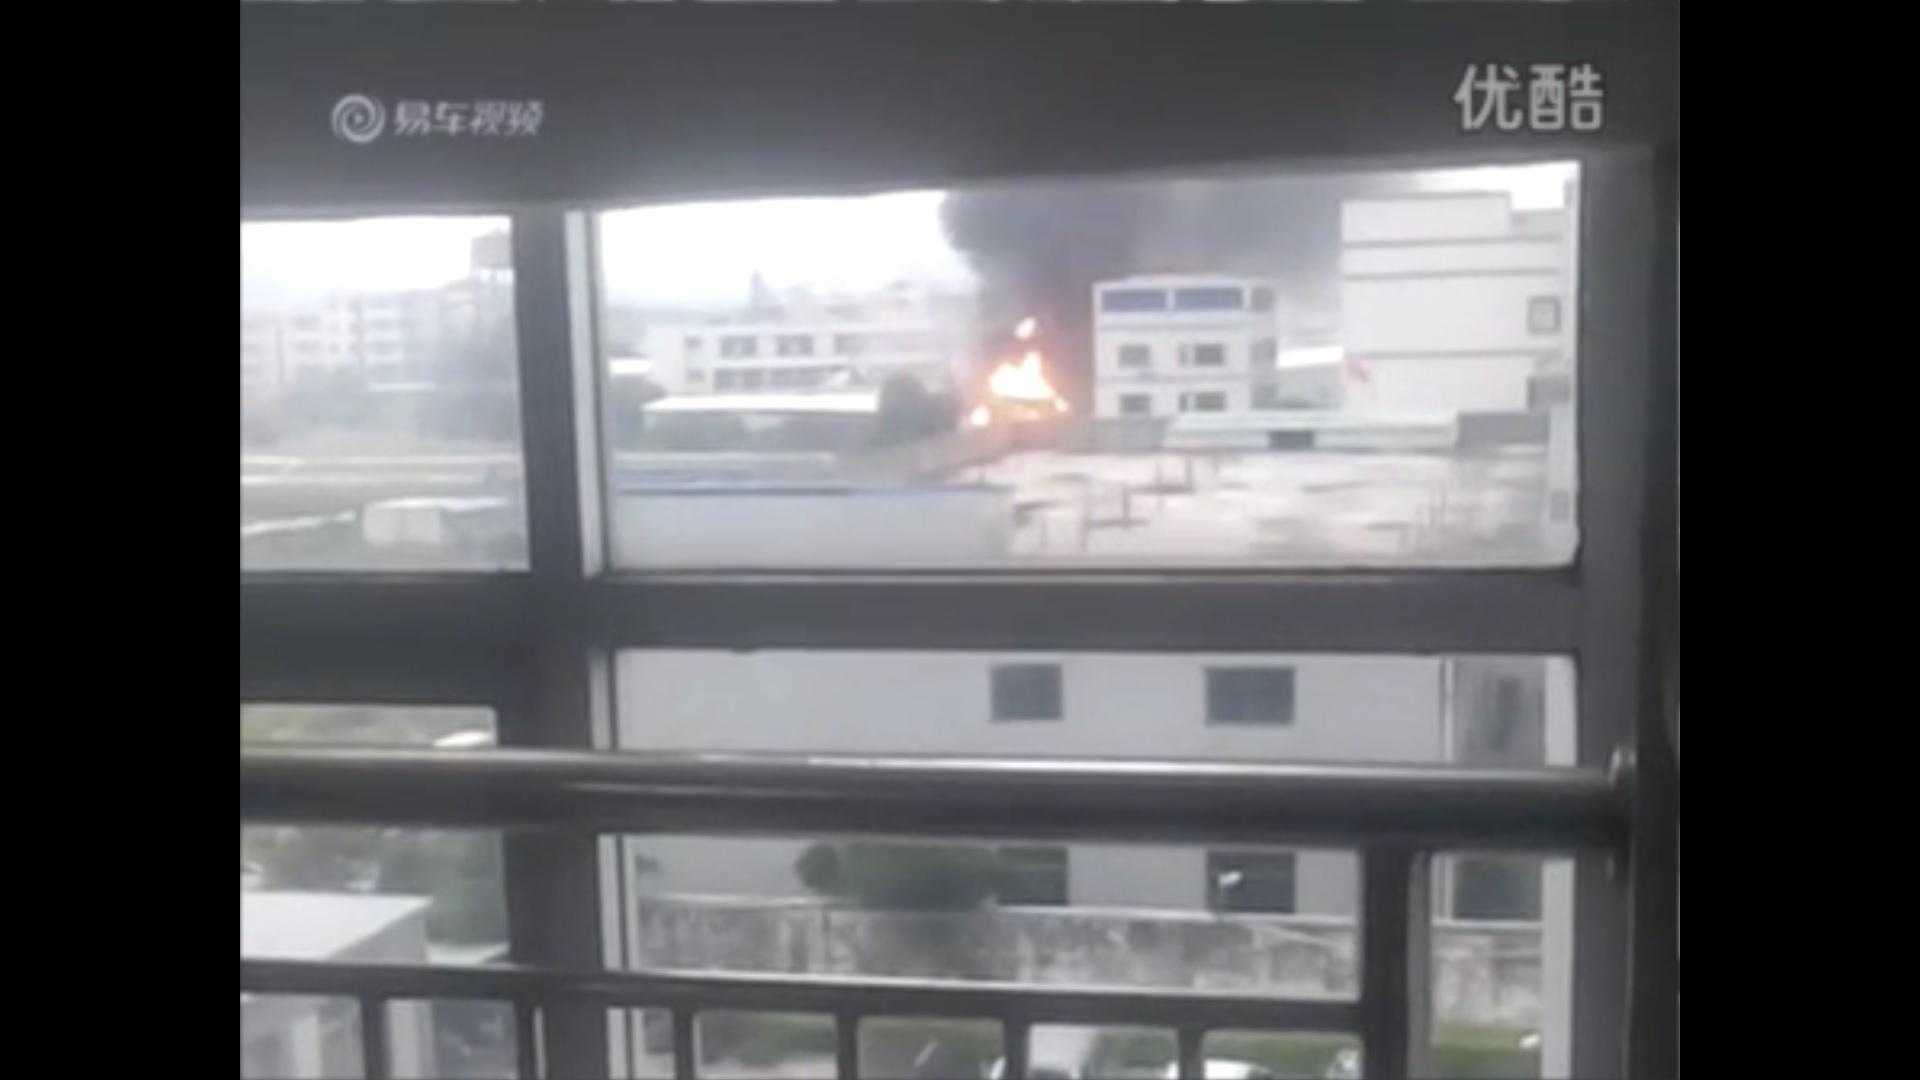fire: (968, 326, 1071, 419)
